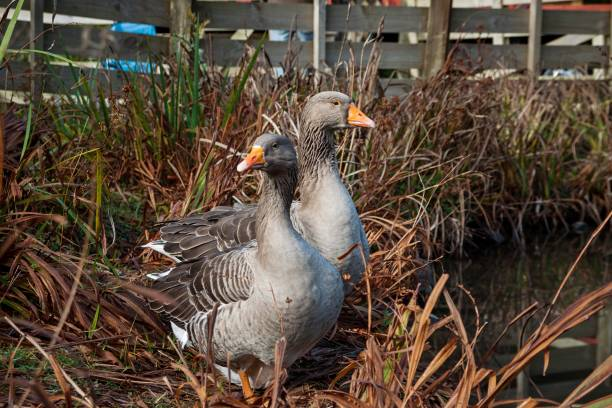goose: (185, 127, 344, 381), (269, 89, 386, 265)
